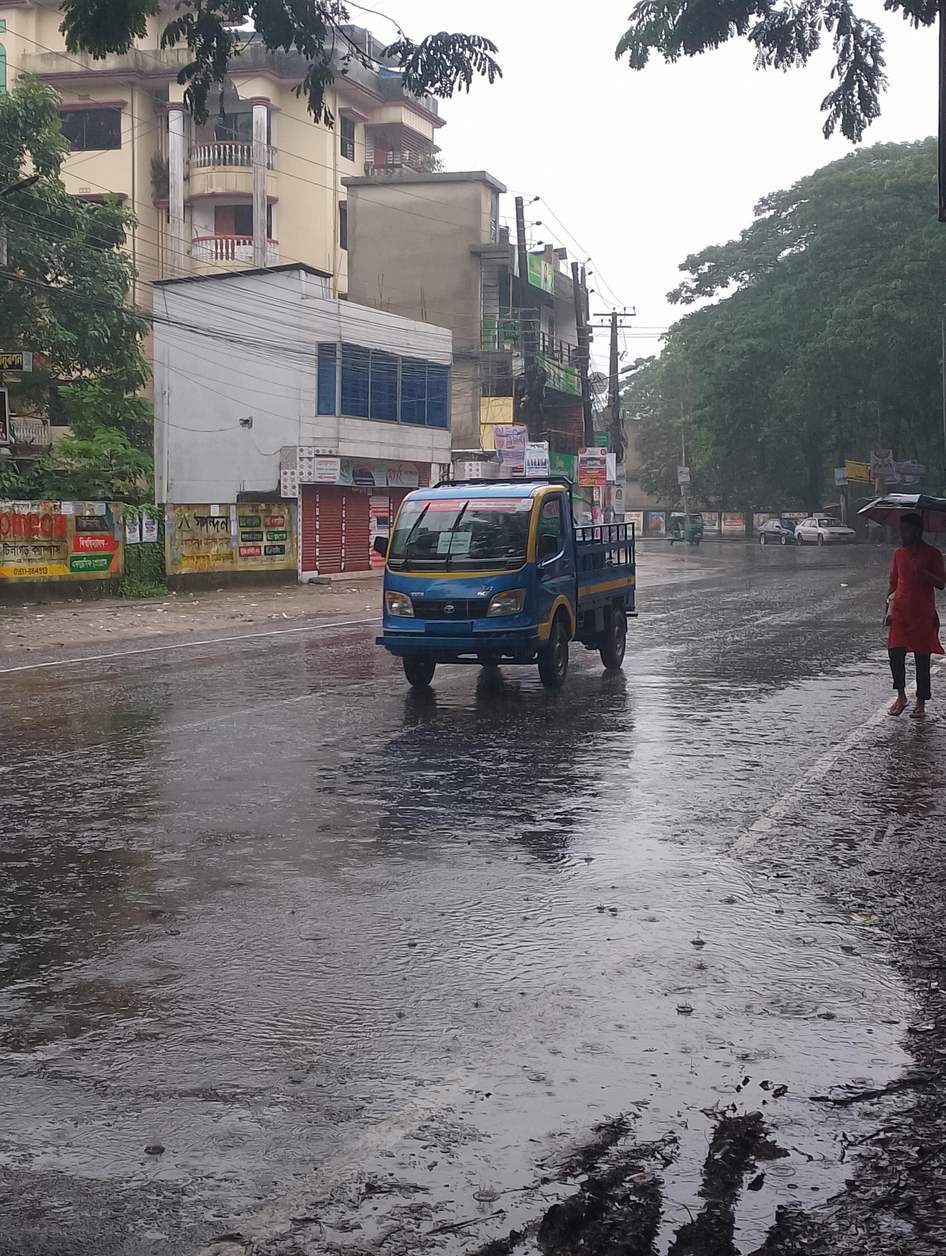Car: (793, 501, 864, 561), (754, 507, 806, 555)
Truck: (354, 459, 660, 720)
